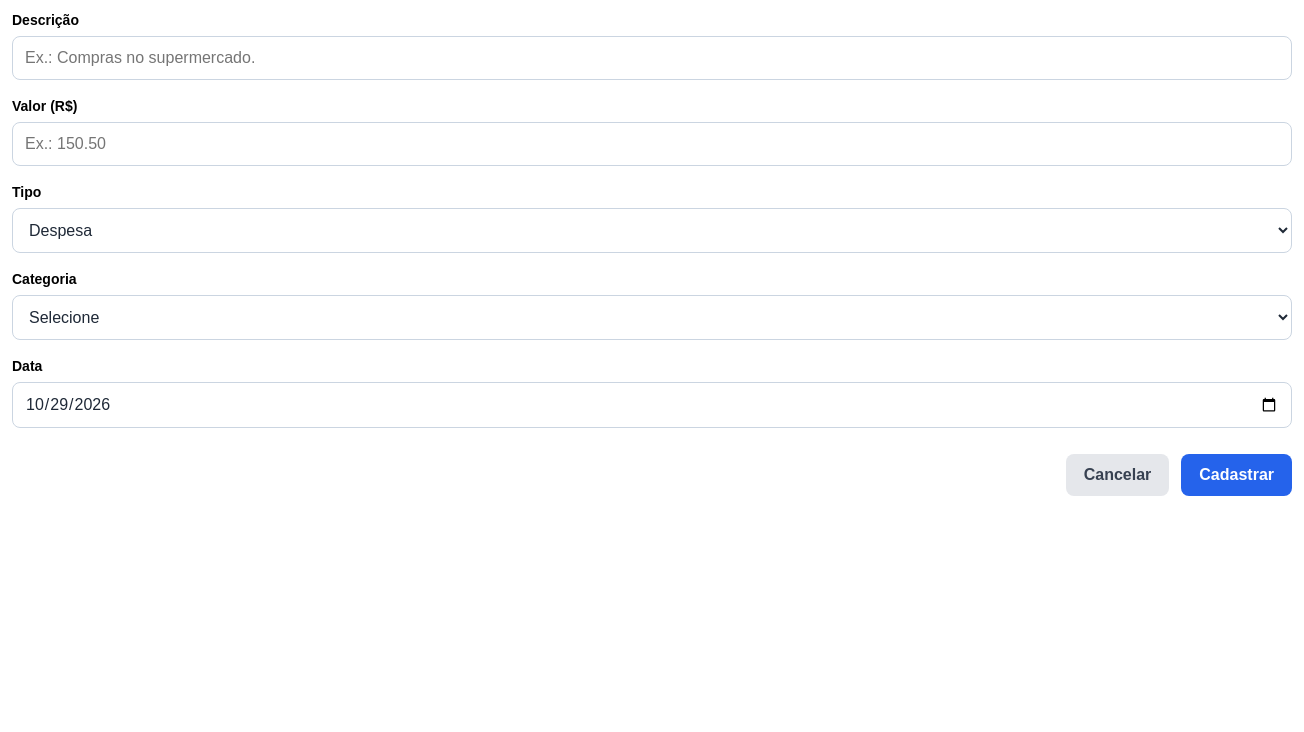
Test: TransactionForm › não envia um formulário com descrição vazia
The image size is (1304, 732).
What coordinates should you click on to do the following:
click the button "Cadastrar"
I would click on:
 (1237, 475)
Its box is x1=1181 y1=454 x2=1292 y2=496.
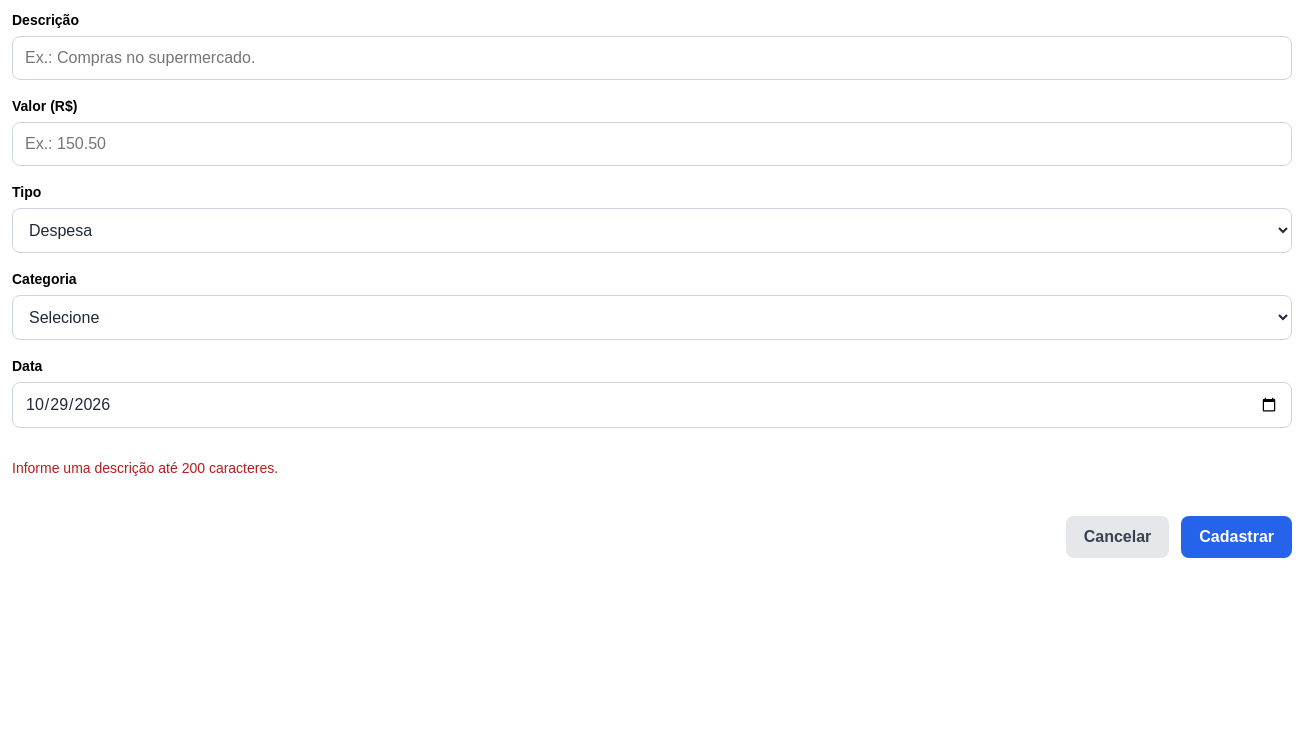
Check: the message shows "Informe uma descrição", box x1=12 y1=460 x2=278 y2=476
